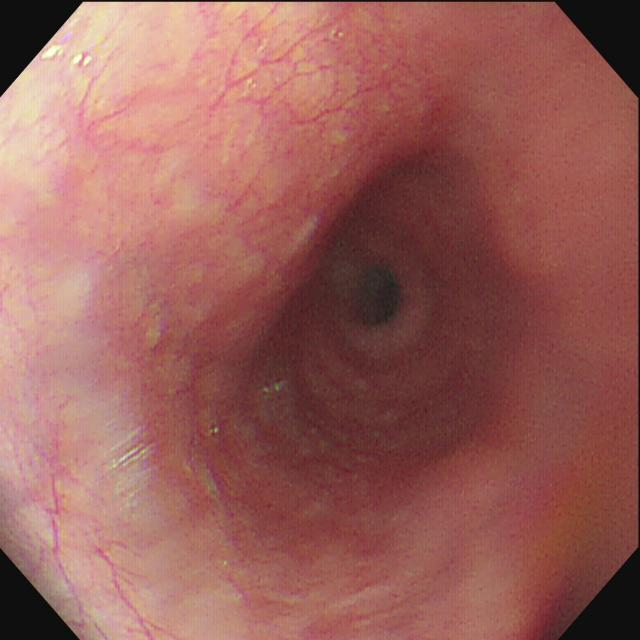E: (332, 247, 416, 340)
U: (39, 45, 95, 72)
